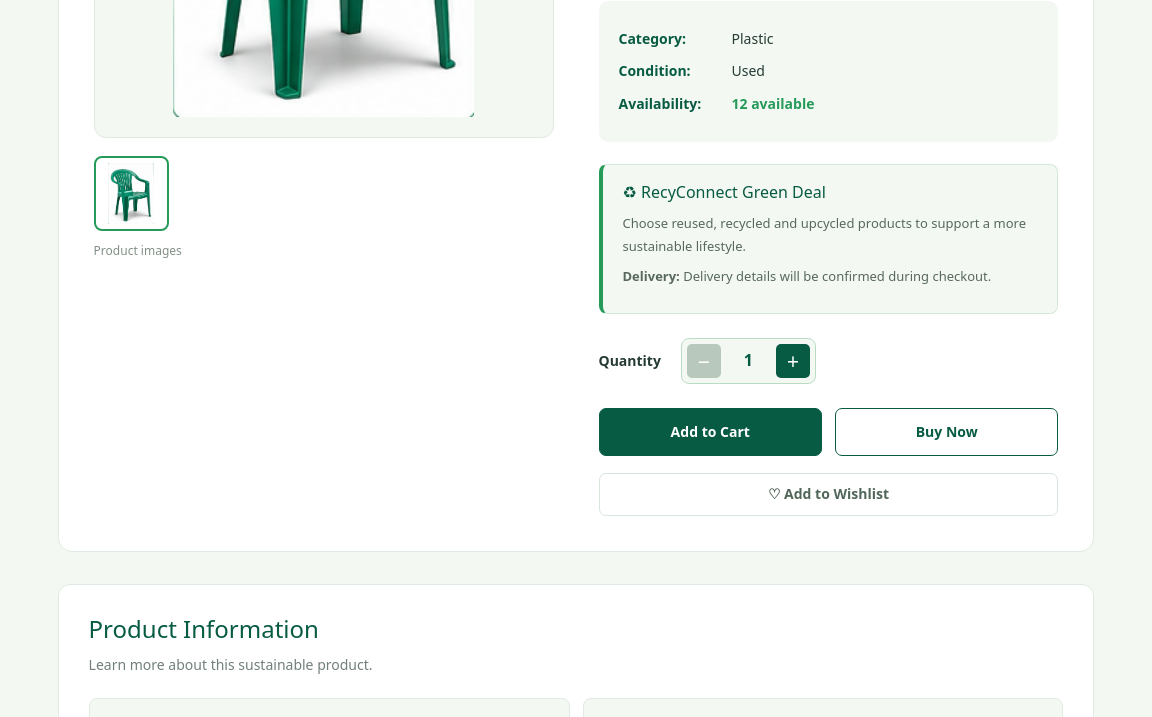
ProductDetails Component › Quantity Controls › decreases quantity when the minus button is clicked
The image size is (1152, 717).
(page scrolled)
Click the button "+" at (793,361), box [776,344,810,378]
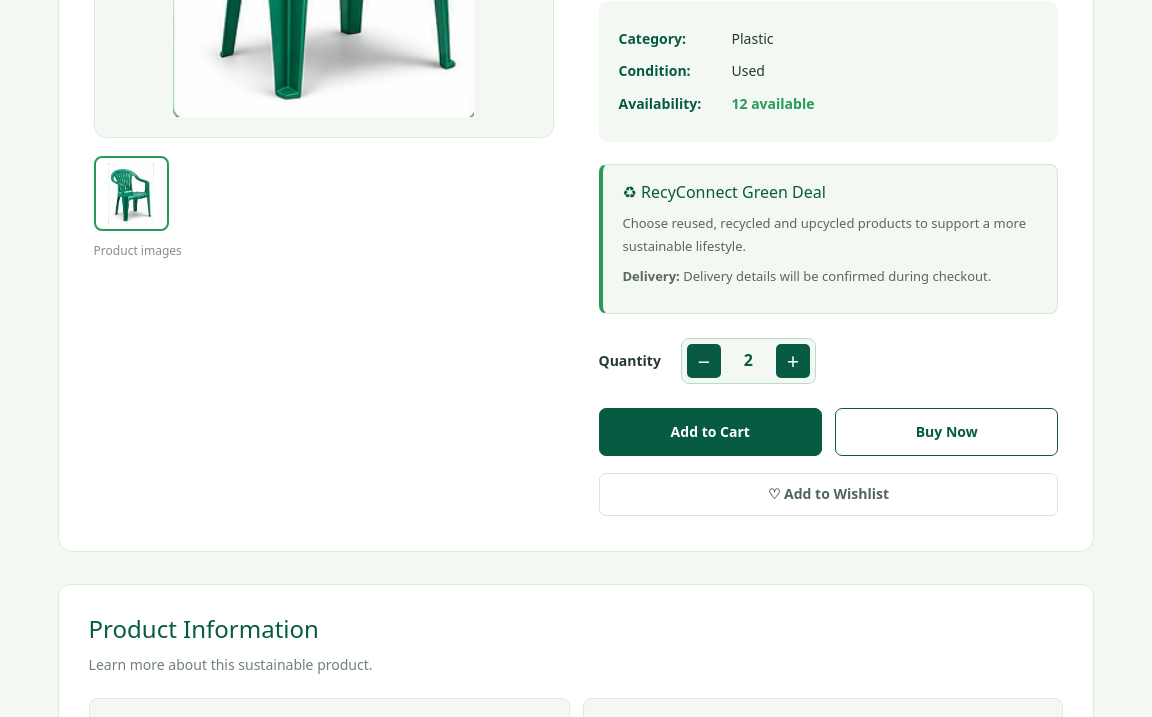
Click the button "−" at (704,361), box [687,344,721,378]
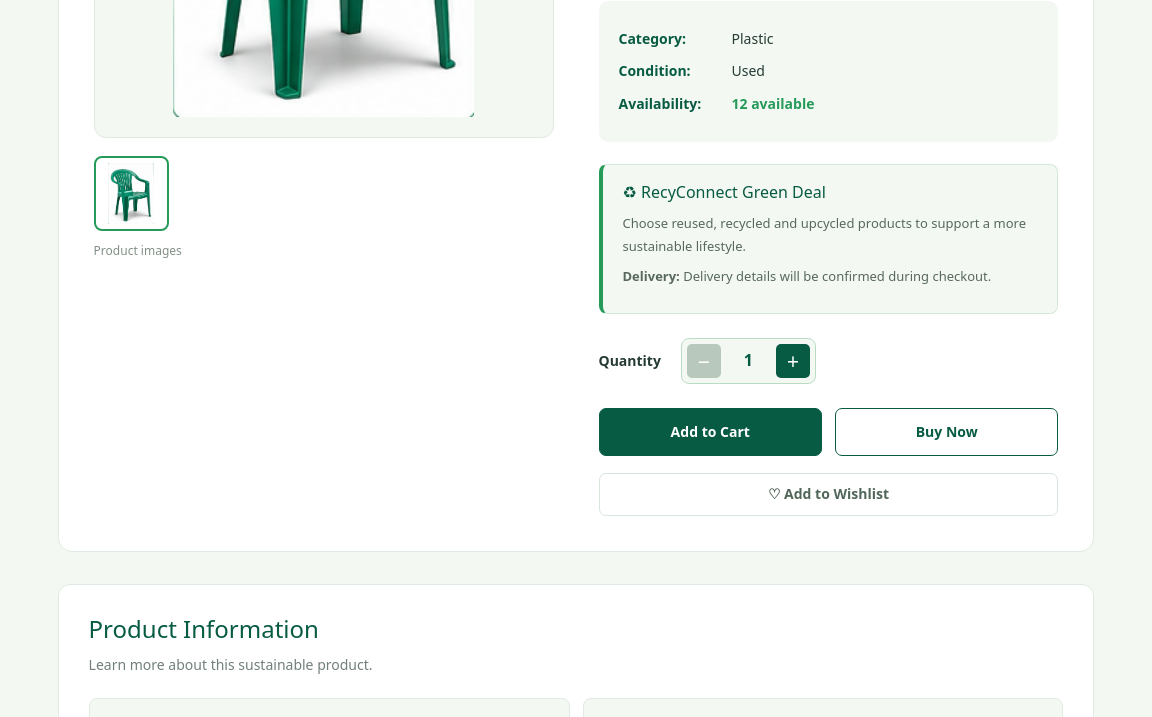
Expected: the text "1" is shown, [744,348,753,374]
